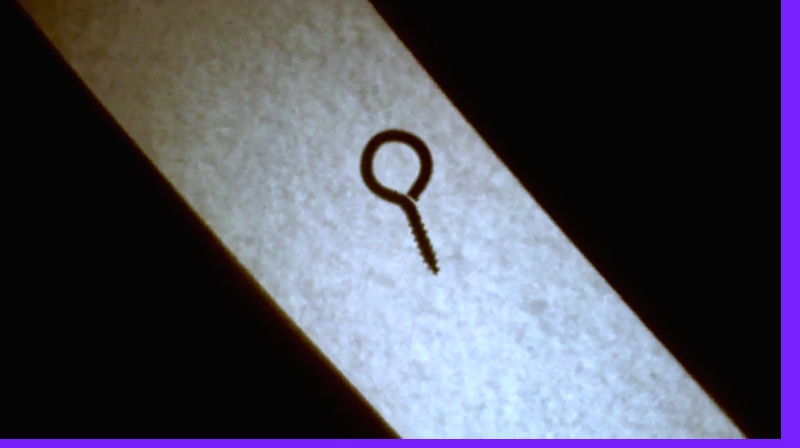O001: (353, 125, 441, 277)
